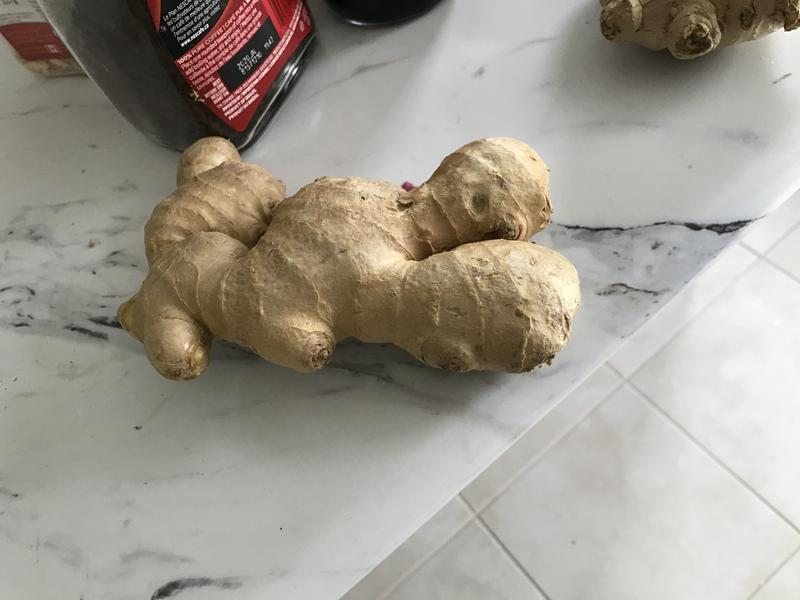ginger: (108, 129, 584, 394), (564, 3, 800, 83)
